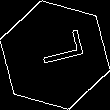L_W: (26, 34, 84, 76)
